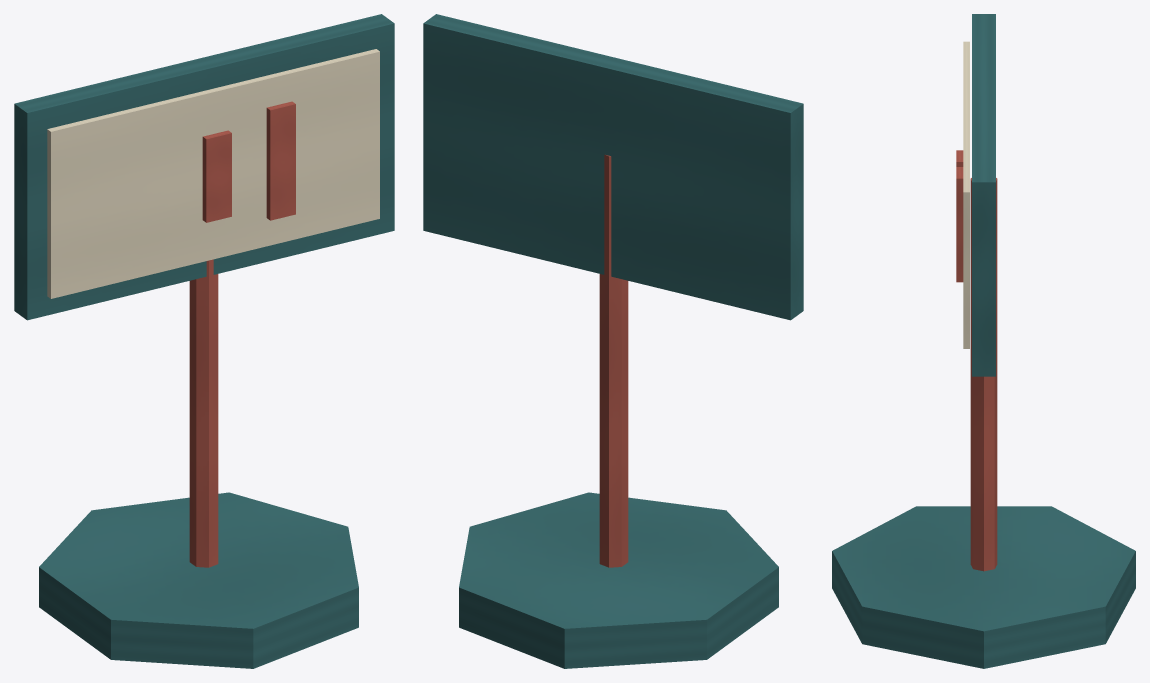
The model's file is atlas100-s033-a11.lod1.glb.
3 views of the same model, side by side, from view 1: azimuth 30°, elevation 25°; view 2: azimuth 150°, elevation 25°; view 3: azimuth 270°, elevation 25° (orthographic). The views are drawn at different scales.
Visible parts, largest first — view 1: atlas100-s033-a11:part-003, atlas100-s033-a11:part-000, atlas100-s033-a11:part-002, atlas100-s033-a11:part-001, atlas100-s033-a11:part-006, atlas100-s033-a11:part-005; view 2: atlas100-s033-a11:part-002, atlas100-s033-a11:part-000, atlas100-s033-a11:part-001; view 3: atlas100-s033-a11:part-000, atlas100-s033-a11:part-002, atlas100-s033-a11:part-001, atlas100-s033-a11:part-003, atlas100-s033-a11:part-006.
Part boxes in pixels (x1,y1,x2,y2): atlas100-s033-a11:part-003: (47,49,379,298); atlas100-s033-a11:part-000: (39,492,358,668); atlas100-s033-a11:part-002: (14,14,394,320); atlas100-s033-a11:part-001: (189,259,218,567); atlas100-s033-a11:part-006: (266,101,295,220); atlas100-s033-a11:part-005: (202,130,231,222); atlas100-s033-a11:part-002: (423,14,803,320); atlas100-s033-a11:part-000: (459,492,778,668); atlas100-s033-a11:part-001: (599,154,628,567); atlas100-s033-a11:part-000: (832,506,1135,668); atlas100-s033-a11:part-002: (972,14,995,376); atlas100-s033-a11:part-001: (970,178,997,571); atlas100-s033-a11:part-003: (963,41,969,348); atlas100-s033-a11:part-006: (956,167,963,282).
Bounding box in the file's own units: 1.15 × 1.61 × 0.8774.
3 materials, 3 textured.
